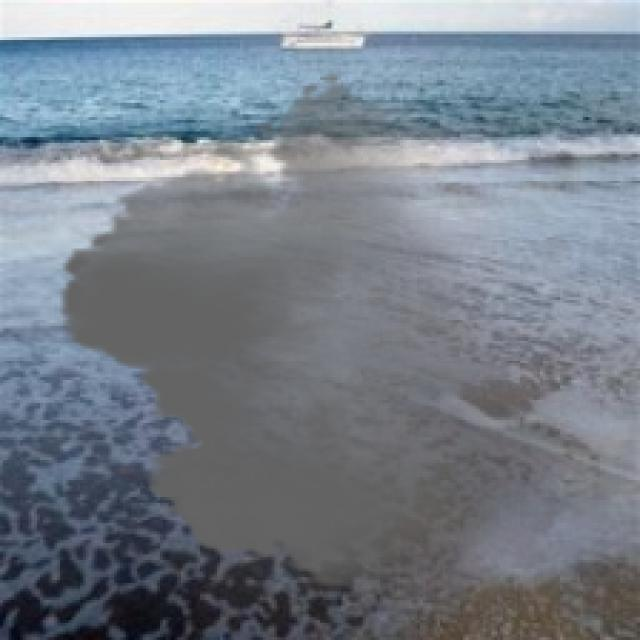smoke: (40, 69, 594, 600)
